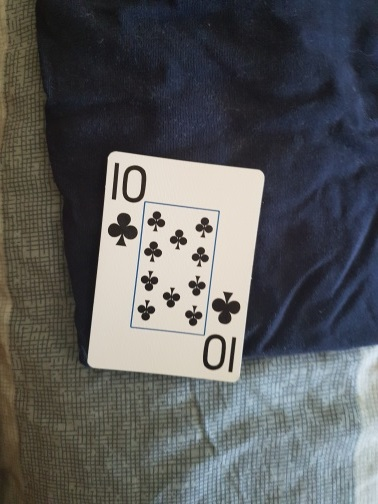ten: (88, 151, 267, 380)
